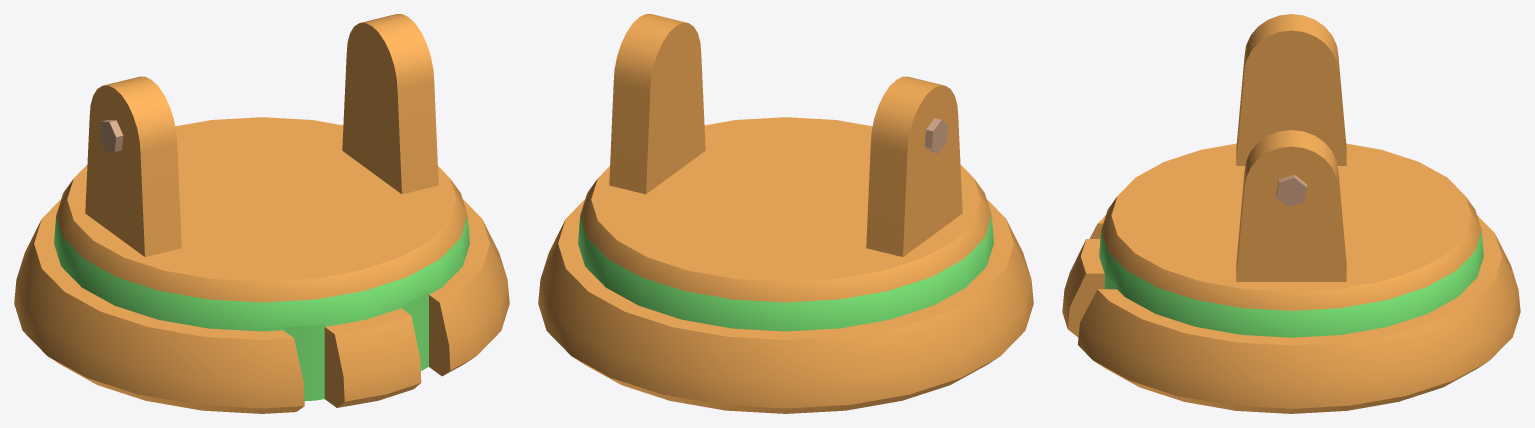
Rendered from canon_base.glb.
3 renders of one model, left to right at view 1: azimuth 30°, elevation 25°; view 2: azimuth 150°, elevation 25°; view 3: azimuth 270°, elevation 25°, orthographic. The views are drawn at different scales.
Parts seen in each view (by area): view 1: Canon_Base; view 2: Canon_Base; view 3: Canon_Base.
Boxes of the visible parts, x1,y1,x2,y2 form: Canon_Base: [14, 14, 509, 413]; Canon_Base: [538, 14, 1033, 413]; Canon_Base: [1062, 14, 1520, 413].
Bounding box in the file's own units: 2.24 × 1.31 × 2.24.
